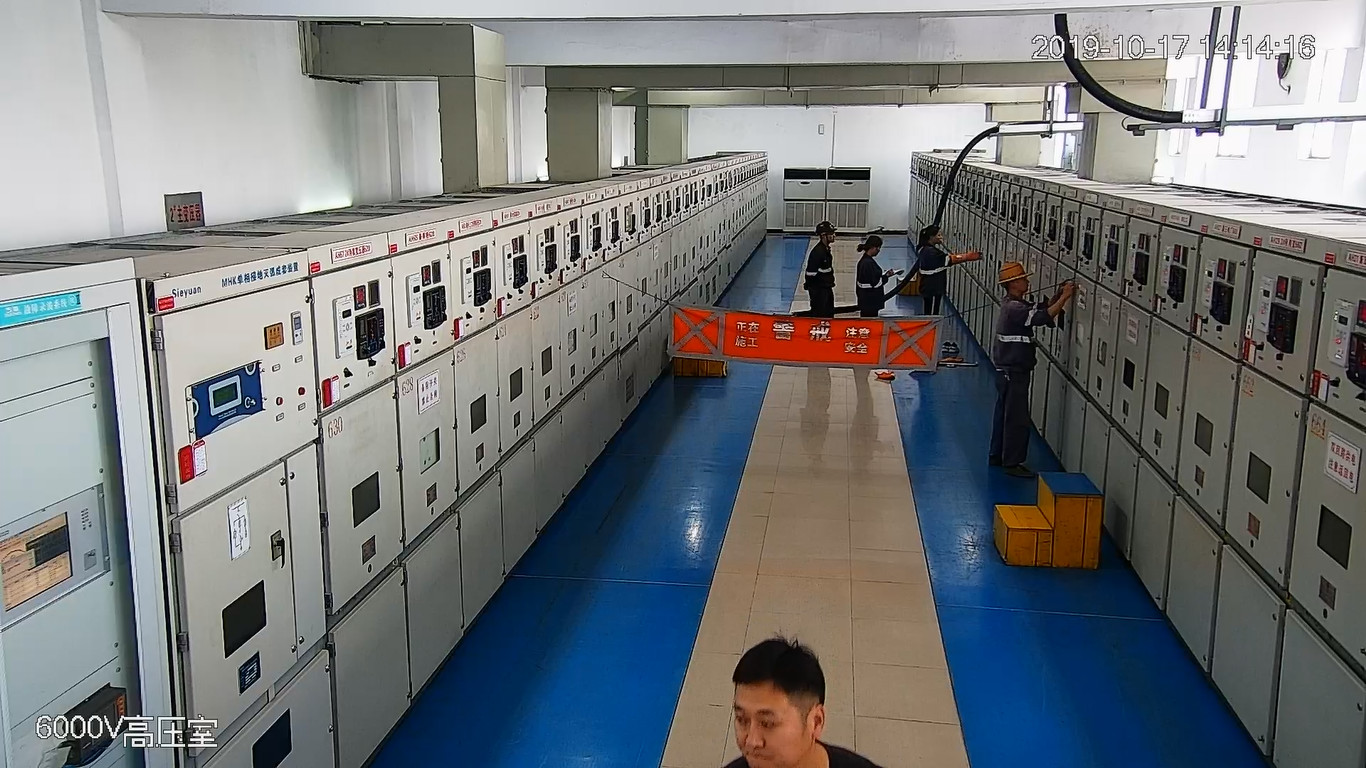helmet: (997, 260, 1033, 284), (814, 220, 837, 236)
